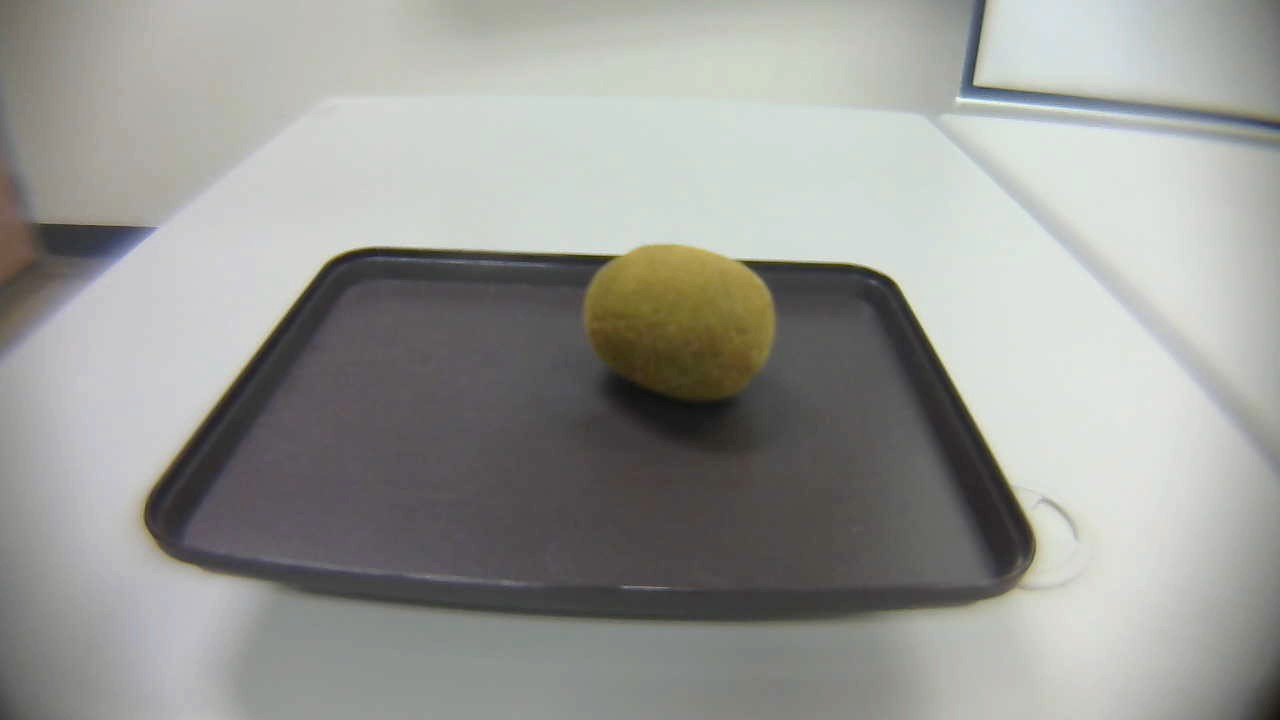kiwi fruit: (572, 227, 786, 413)
